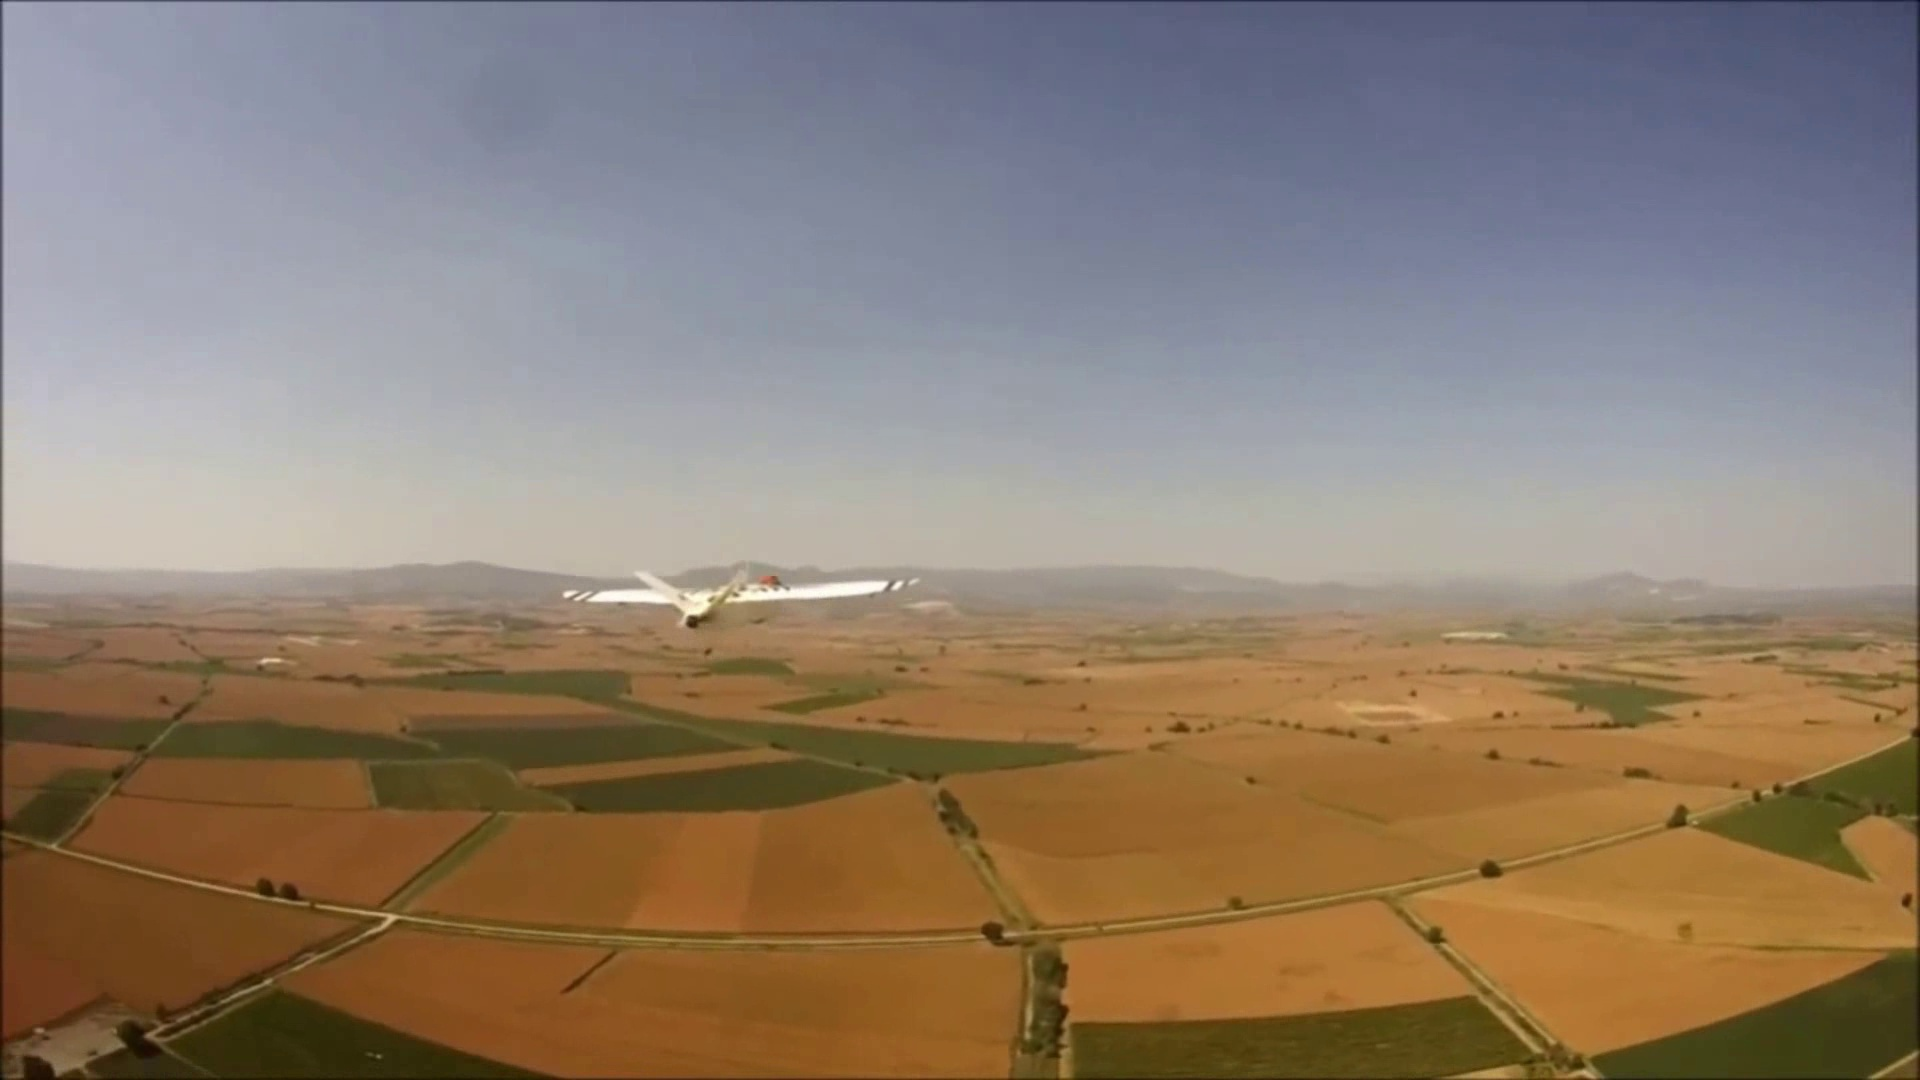airplane: (567, 563, 916, 632)
